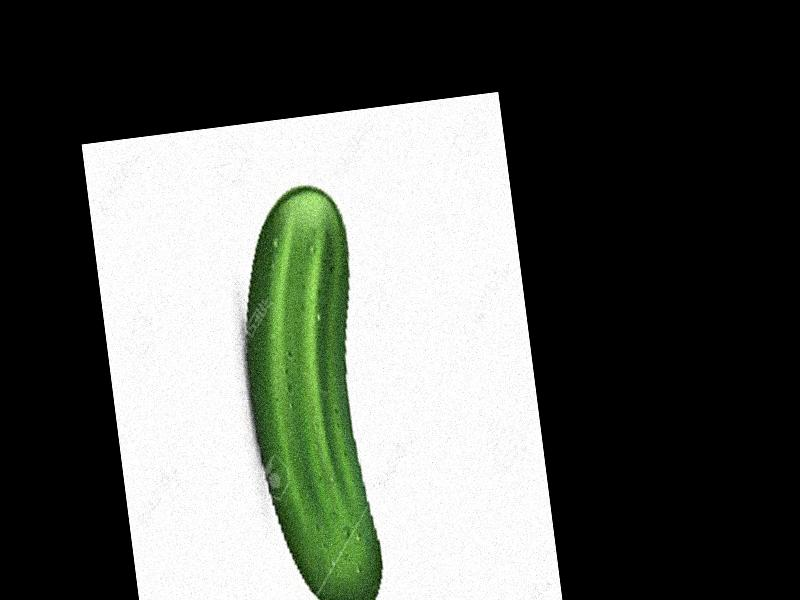Cucumber: (223, 181, 396, 600)
